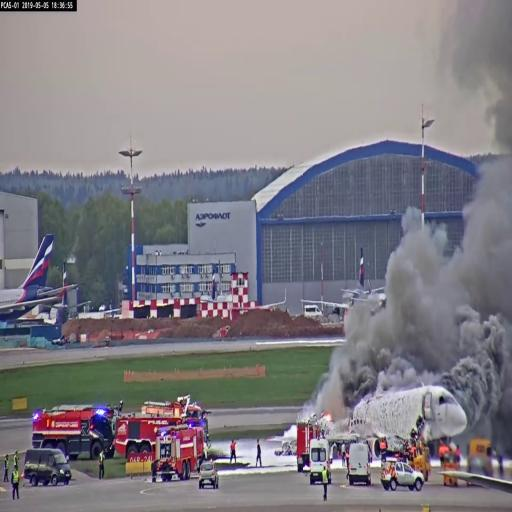smoke: (388, 196, 455, 374), (447, 0, 512, 141), (471, 144, 512, 290), (458, 294, 510, 401), (340, 328, 386, 406)
